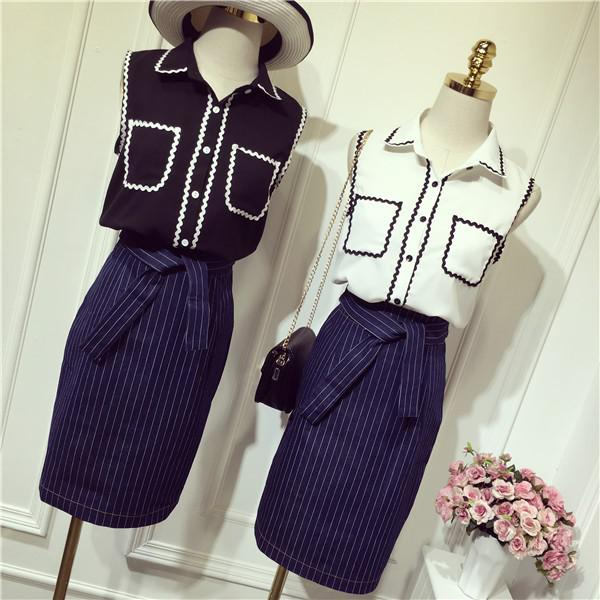Dresses: (257, 126, 537, 594), (38, 47, 299, 531)
